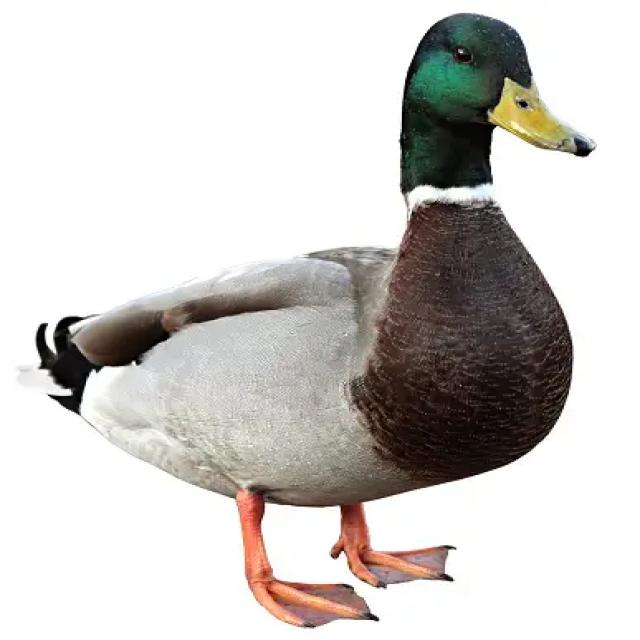ducks: (12, 9, 604, 630)
